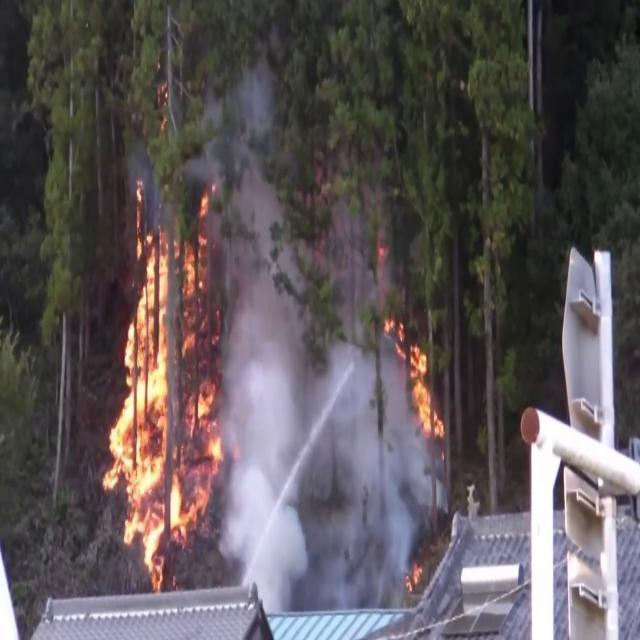Fire: (99, 192, 228, 578), (402, 324, 444, 446)
Smoke: (220, 311, 419, 592), (216, 70, 320, 551)
